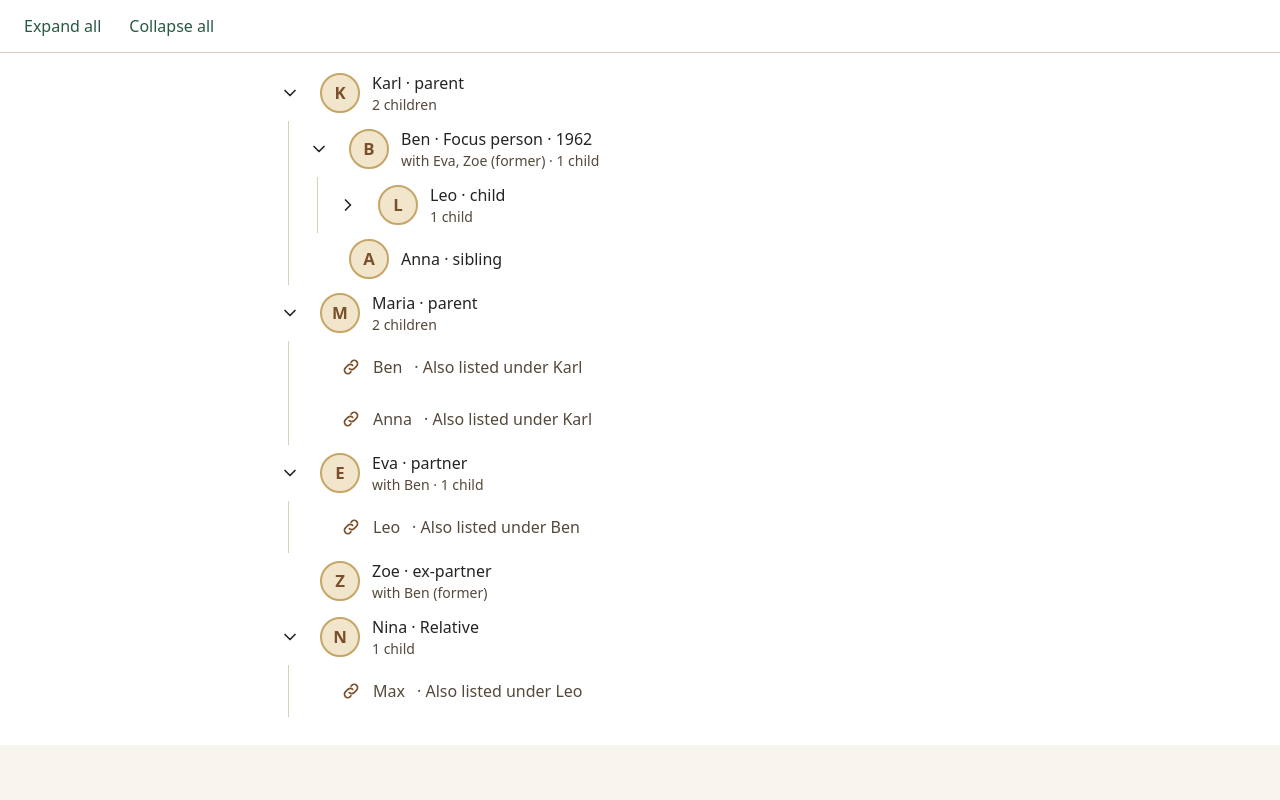
Test: ListView › expands and collapses
Click the button named "Expand Leo's family": {"x": 348, "y": 205} [326, 183, 370, 227]
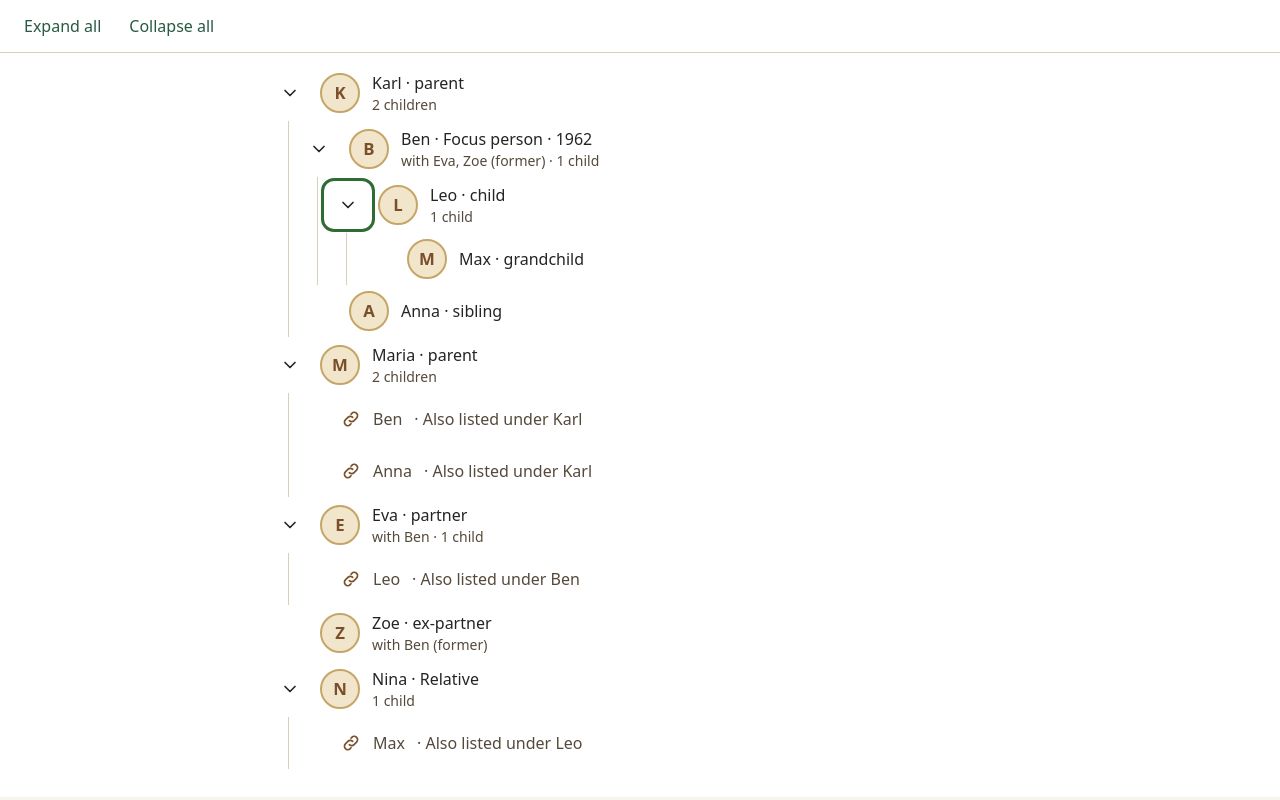
Click the button named "Collapse Leo's family": {"x": 348, "y": 205} [326, 183, 370, 227]
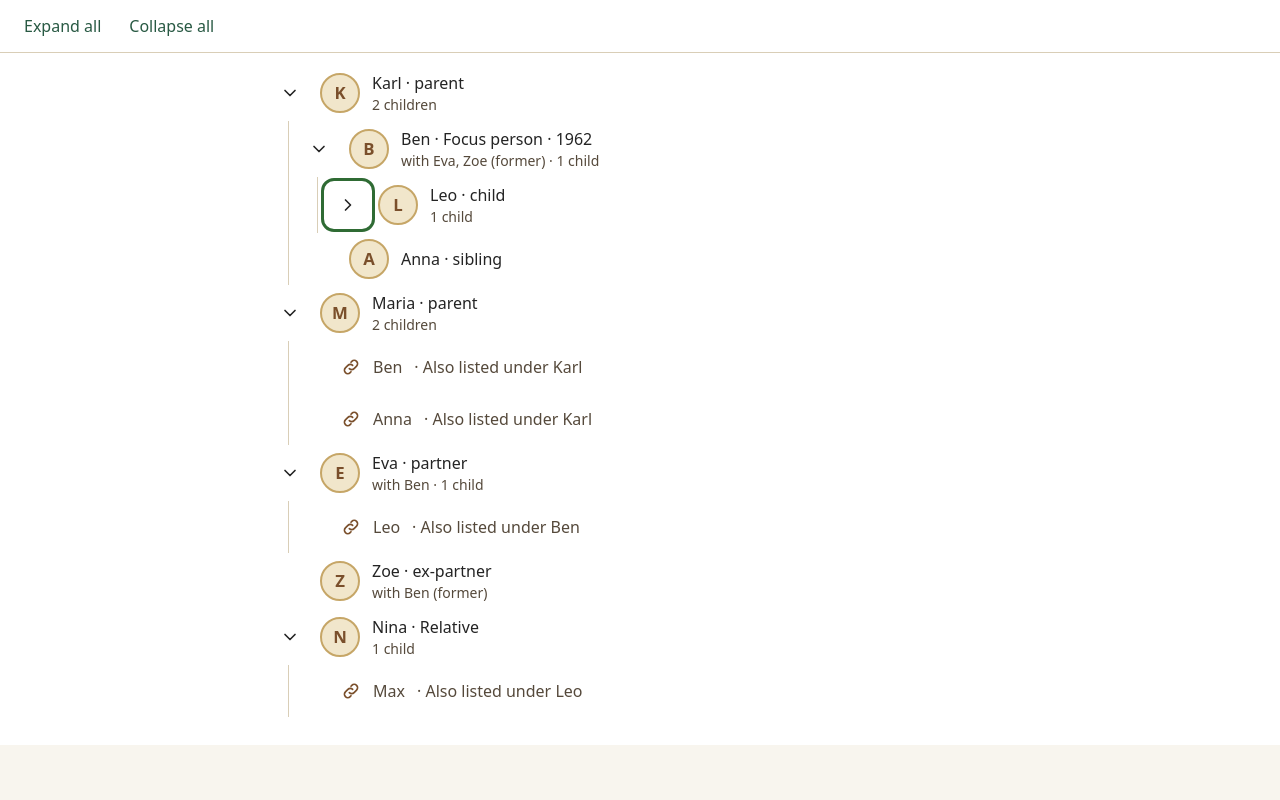
Click the button named "Collapse Karl's family": {"x": 290, "y": 93} [268, 71, 312, 115]
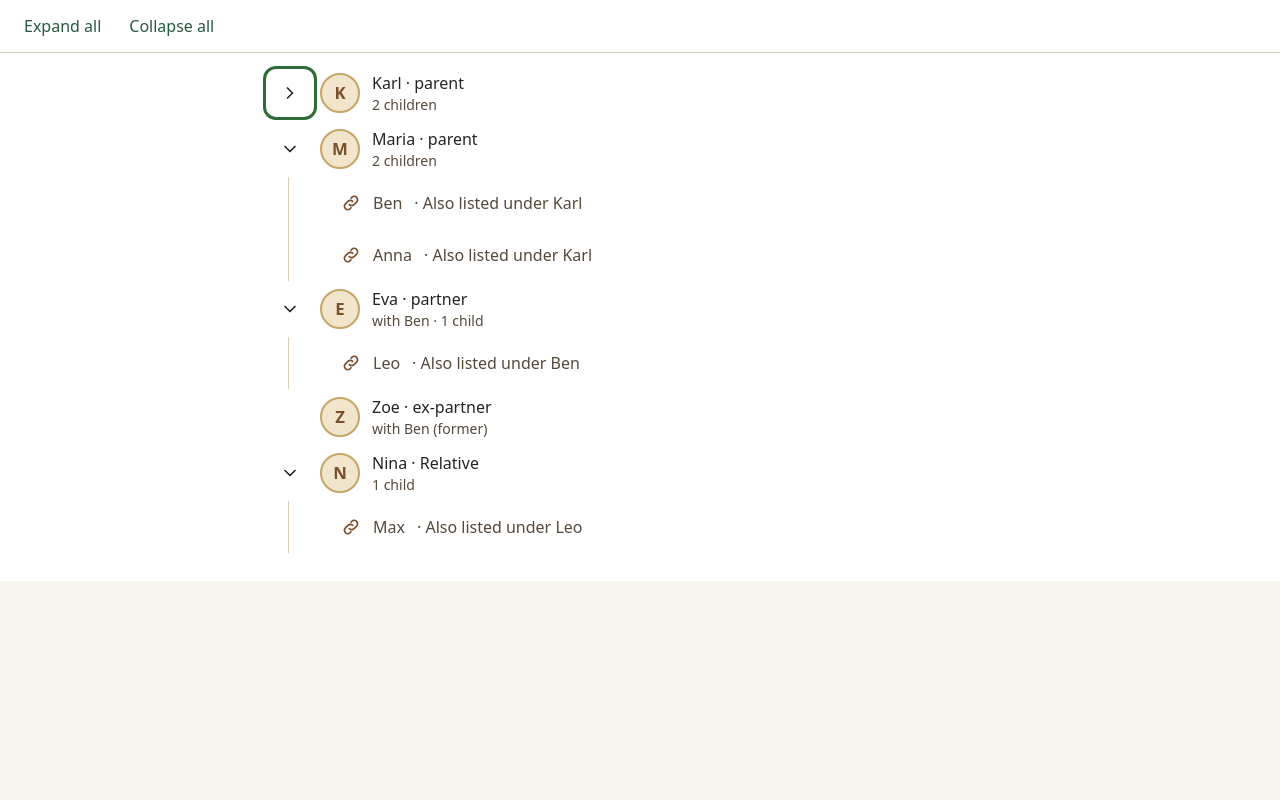
Check: the button "Ben · Focus person · 1962" is gone
